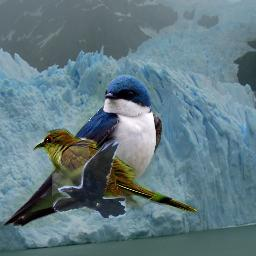Crow: (52, 140, 126, 218)
Cuckoo: (33, 128, 199, 214)
Swallow: (2, 74, 163, 228)
